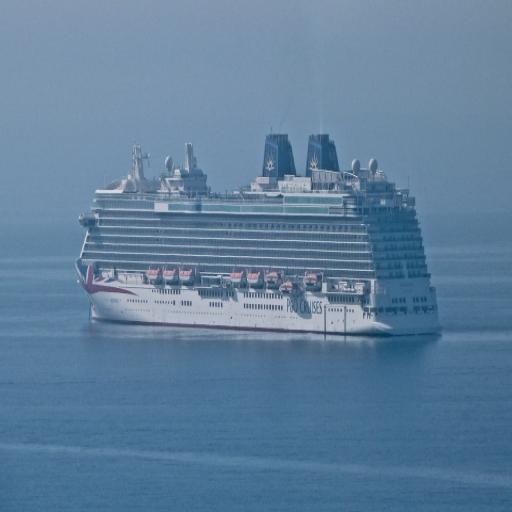cruises: (73, 123, 454, 354)
